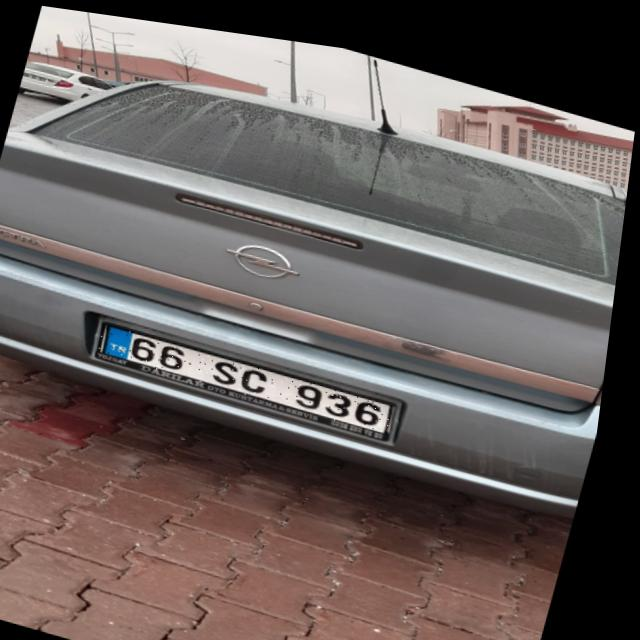license_plate: (102, 319, 408, 423)
